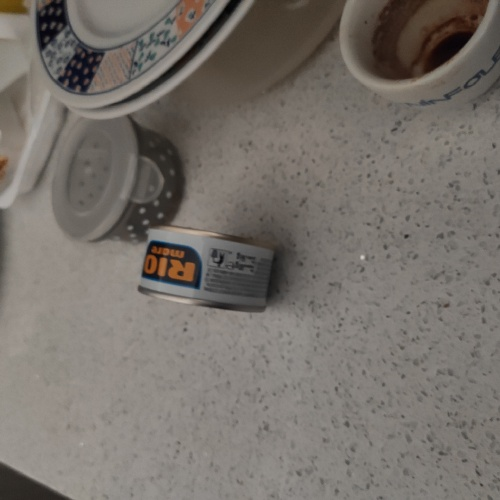tonno: (134, 218, 282, 322)
